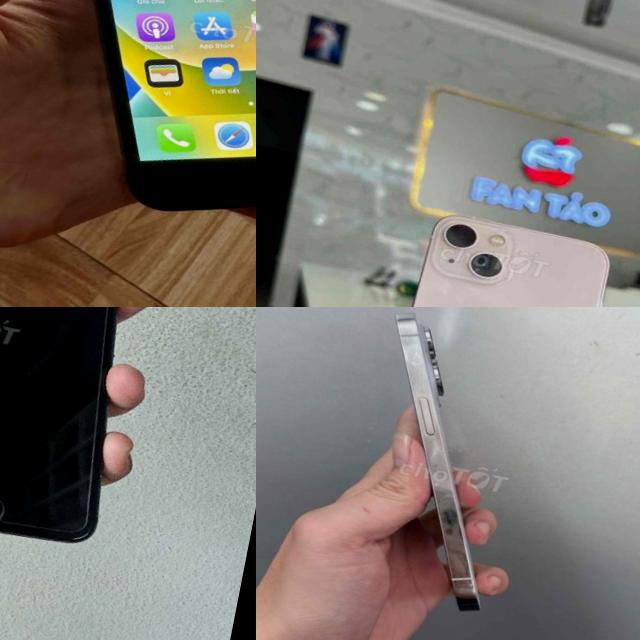gen_12_13: (371, 206, 620, 307)
gen_14: (330, 307, 570, 631)
gen_7_8: (0, 0, 256, 259), (0, 307, 162, 558)
